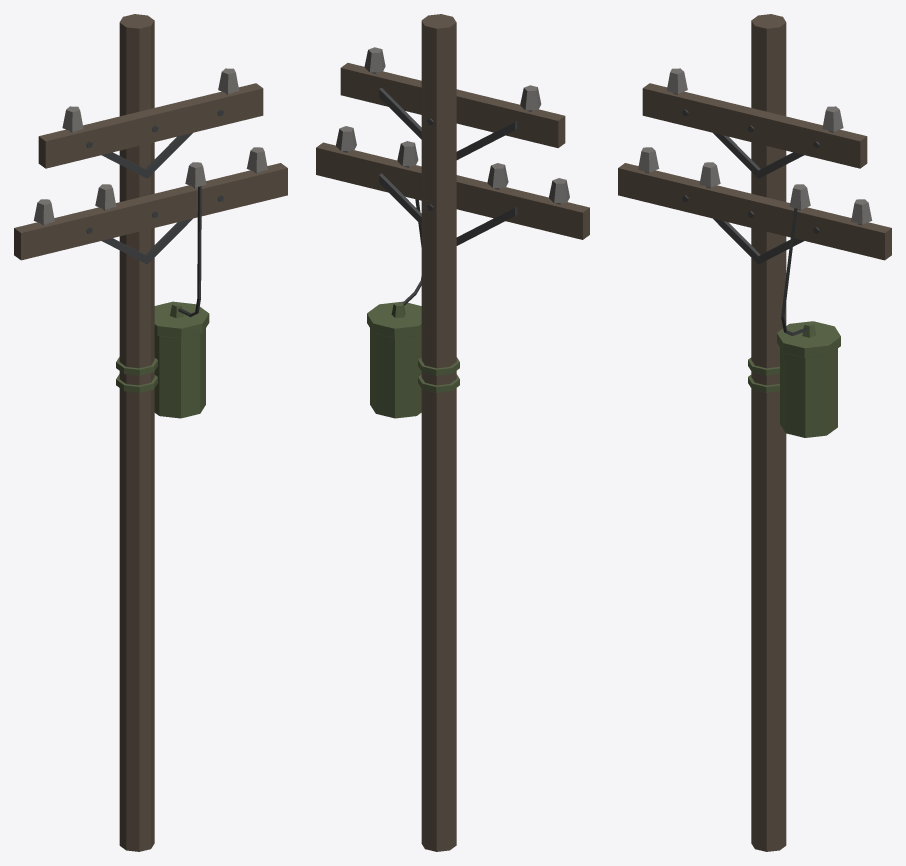
Rendered from SM_Props_Street_UtilityPole_Double_01.fbx.
The picture shows the model from 3 angles, left to right: view 1: azimuth 30°, elevation 25°; view 2: azimuth 150°, elevation 25°; view 3: azimuth 330°, elevation 25°; orthographic projection.
Visible parts, largest first — view 1: SM_Props_Street_UtilityPole_Double_01; view 2: SM_Props_Street_UtilityPole_Double_01; view 3: SM_Props_Street_UtilityPole_Double_01.
Part boxes in pixels (x1,y1,x2,y2): SM_Props_Street_UtilityPole_Double_01: (14,14,287,851); SM_Props_Street_UtilityPole_Double_01: (316,14,589,851); SM_Props_Street_UtilityPole_Double_01: (618,14,891,851).
Bounding box in the file's own units: 260 × 768 × 67.49.
